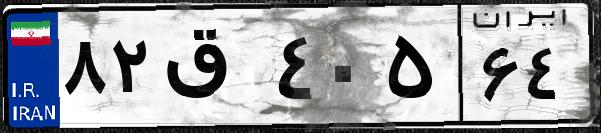0: (330, 28, 385, 110)
2: (110, 28, 158, 98)
4: (270, 28, 330, 110), (525, 38, 570, 115)
5: (385, 28, 445, 110)
6: (475, 38, 525, 113)
8: (57, 26, 110, 100)
ق: (158, 20, 270, 120)
